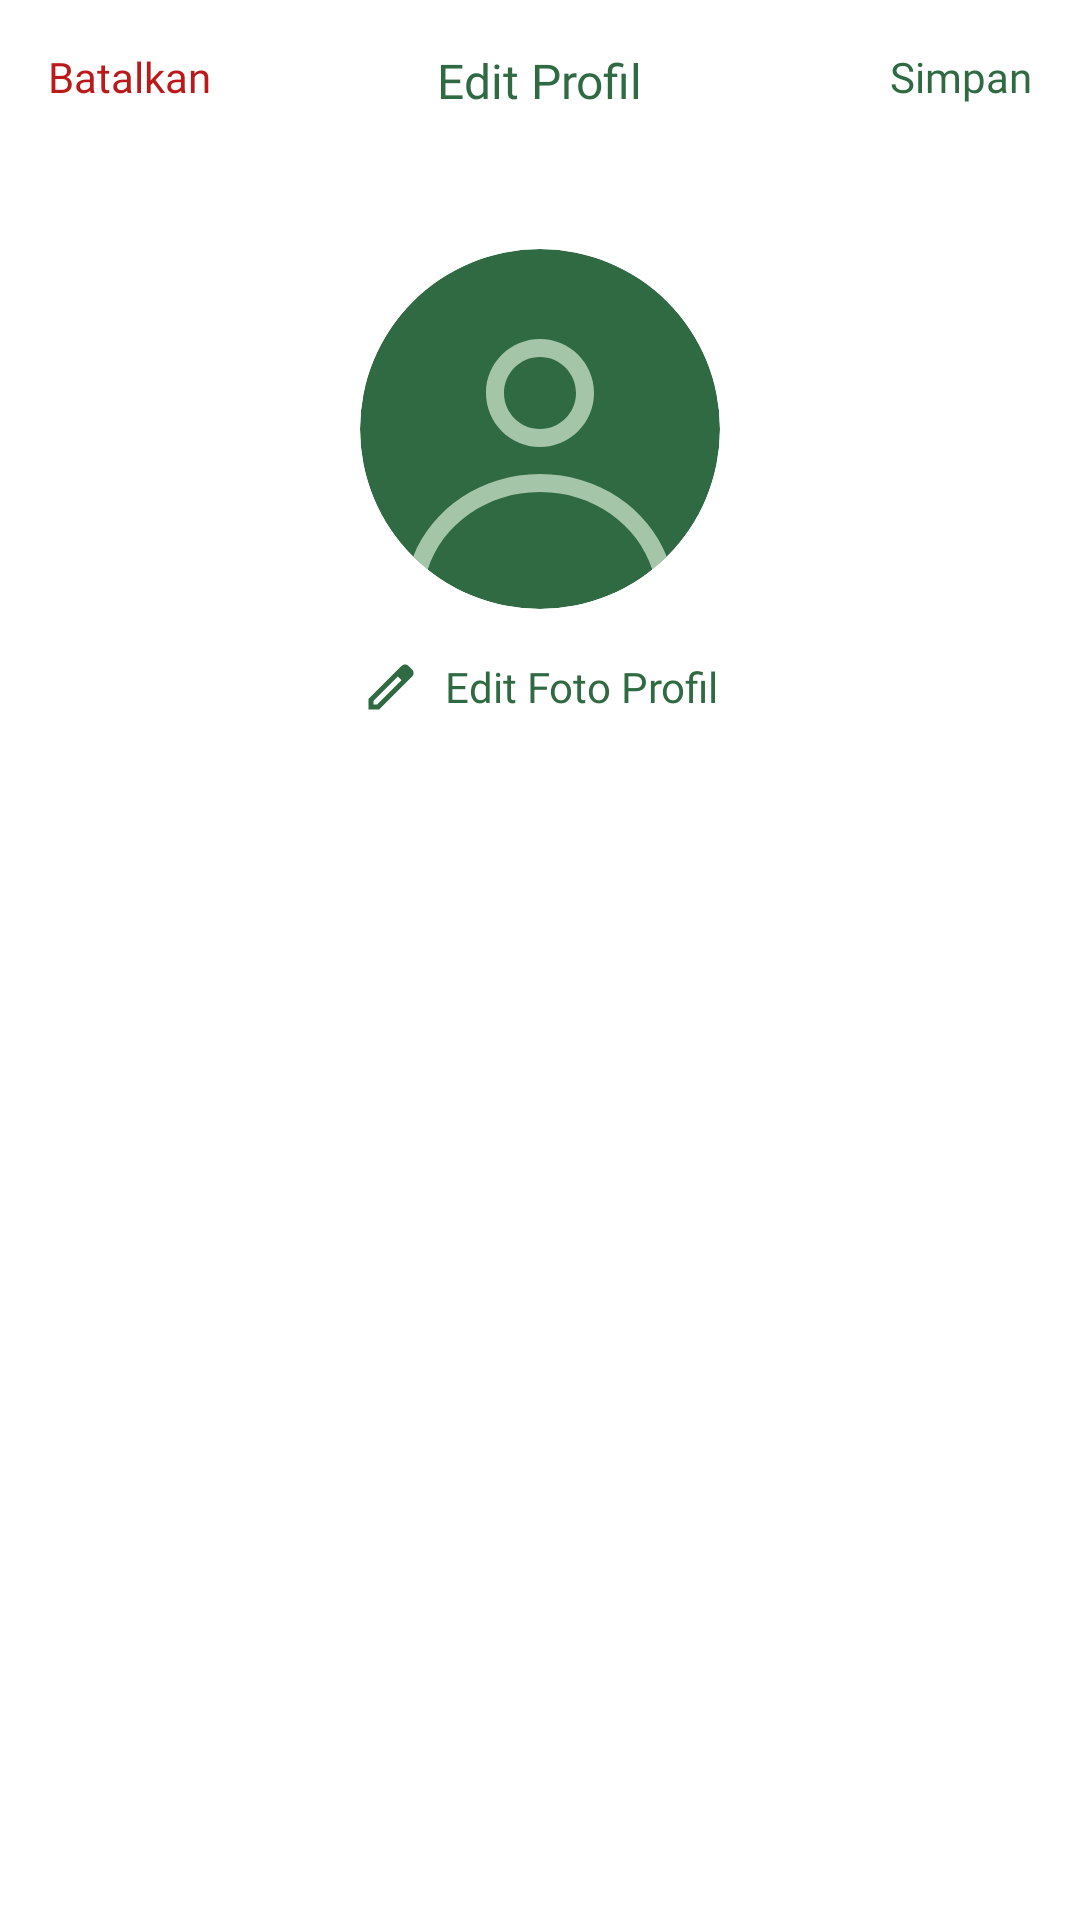

Icons on this 1080 × 1920 Android screen, each with the point to tap as (x,y):
pen: (391,687)
